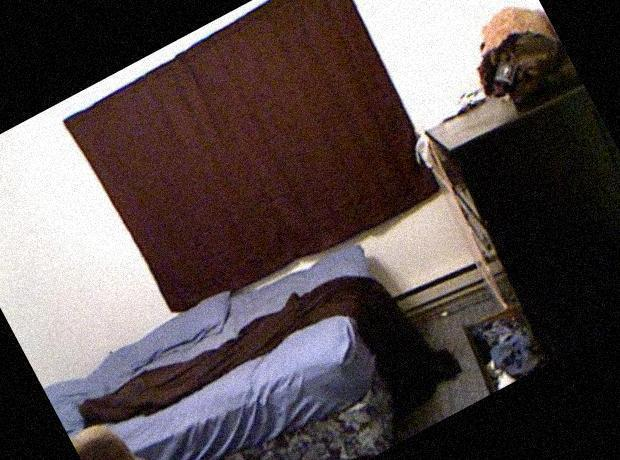Armario: (419, 57, 620, 363)
